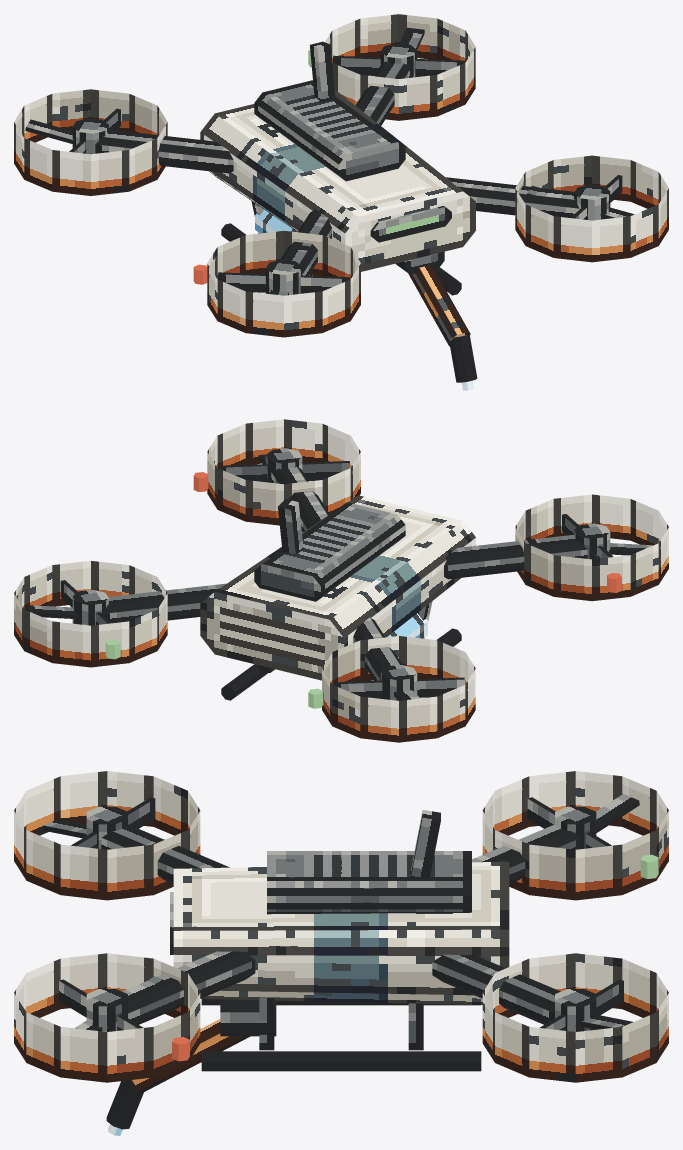
File: drone_repair.glb
The picture shows the model from 3 angles, top to bottom: view 1: azimuth 30°, elevation 25°; view 2: azimuth 150°, elevation 25°; view 3: azimuth 270°, elevation 25°; orthographic projection. The views are drawn at different scales.
Parts seen in each view (by area): view 1: hull, duct, duct_mirror, duct_b_mirror, duct_b, spine, boom_back_mirror, boom, weldarm, nose, boom_back, blade_mirror (+11 smaller); view 2: hull, duct_mirror, duct_b_mirror, duct_b, duct, spine, boom_mirror, boom_back, boom, blade_b_mirror, blade, boom_back_mirror (+8 smaller); view 3: hull, duct_mirror, duct_b, duct, duct_b_mirror, spine, skid, boom, boom_back, boom_mirror, boom_back_mirror, armbase (+16 smaller).
Boxes of the visible parts, left/top/right/bottom form: hull: left=200, top=89, right=475, bottom=271; duct: left=515, top=155, right=668, bottom=262; duct_mirror: left=207, top=230, right=360, bottom=337; duct_b_mirror: left=14, top=89, right=167, bottom=195; duct_b: left=325, top=14, right=475, bottom=120; spine: left=254, top=80, right=405, bottom=181; boom_back_mirror: left=95, top=129, right=233, bottom=173; boom: left=446, top=177, right=579, bottom=217; weldarm: left=408, top=265, right=470, bottom=346; nose: left=370, top=206, right=451, bottom=242; boom_back: left=355, top=61, right=411, bottom=125; blade_mirror: left=218, top=272, right=349, bottom=293; hull: left=200, top=495, right=475, bottom=680; duct_mirror: left=515, top=494, right=668, bottom=601; duct_b_mirror: left=322, top=636, right=475, bottom=742; duct_b: left=14, top=560, right=167, bottom=667; duct: left=207, top=419, right=360, bottom=525; spine: left=254, top=502, right=405, bottom=601; boom_mirror: left=444, top=534, right=587, bottom=579; boom_back: left=103, top=583, right=226, bottom=622; boom: left=271, top=467, right=329, bottom=532; blade_b_mirror: left=333, top=677, right=464, bottom=698; blade: left=218, top=461, right=349, bottom=482; boom_back_mirror: left=353, top=617, right=402, bottom=680; hull: left=173, top=861, right=509, bottom=1004; duct_mirror: left=14, top=771, right=200, bottom=900; duct_b: left=482, top=953, right=668, bottom=1082; duct: left=14, top=953, right=200, bottom=1082; duct_b_mirror: left=482, top=771, right=668, bottom=900; spine: left=267, top=851, right=471, bottom=914; skid: left=201, top=1051, right=481, bottom=1071; boom: left=122, top=951, right=255, bottom=1024; boom_back: left=432, top=954, right=560, bottom=1024; boom_mirror: left=101, top=824, right=229, bottom=883; boom_back_mirror: left=472, top=824, right=581, bottom=883; armbase: left=220, top=999, right=276, bottom=1036.
Size of the model in its own units: 33.14 by 18.38 by 35.14.
2 materials, 2 textured.
